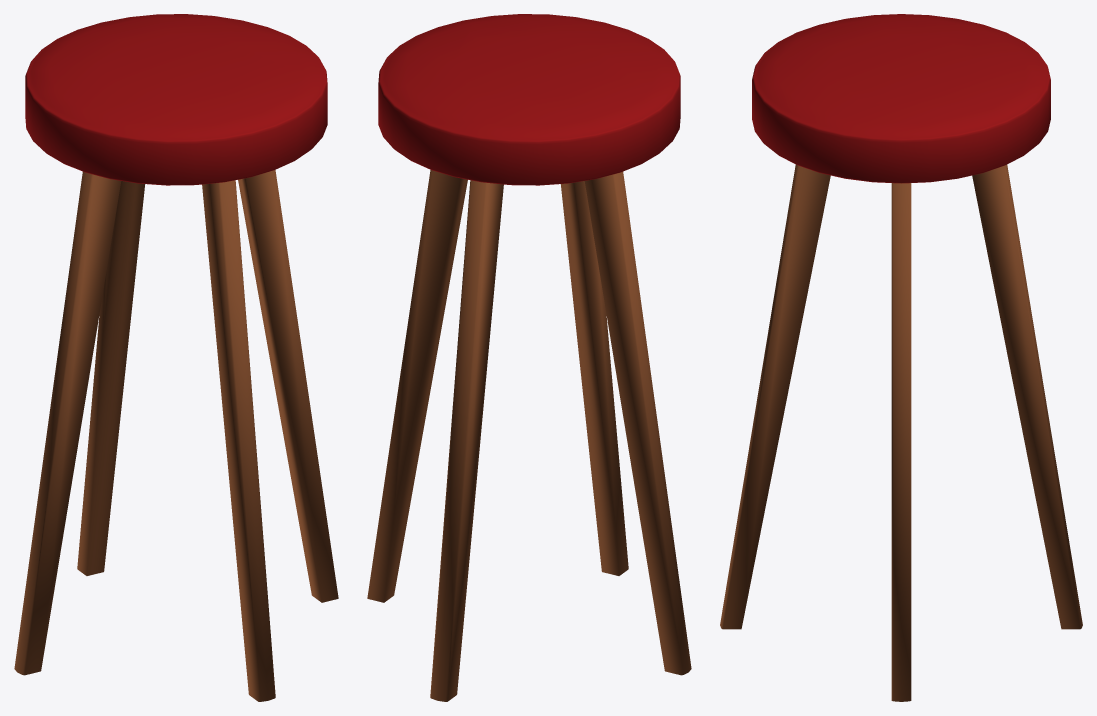
Rendered from Stool.fbx.
3 renders of one model, left to right at view 1: azimuth 30°, elevation 25°; view 2: azimuth 150°, elevation 25°; view 3: azimuth 270°, elevation 25°, orthographic.
Parts seen in each view (by area): view 1: Stool; view 2: Stool; view 3: Stool.
Boxes of the visible parts, x1,y1,x2,y2 form: Stool: (14, 14, 338, 701); Stool: (367, 14, 691, 701); Stool: (720, 14, 1082, 701).
Size of the model in its own units: 65.41 by 111 by 65.41.
